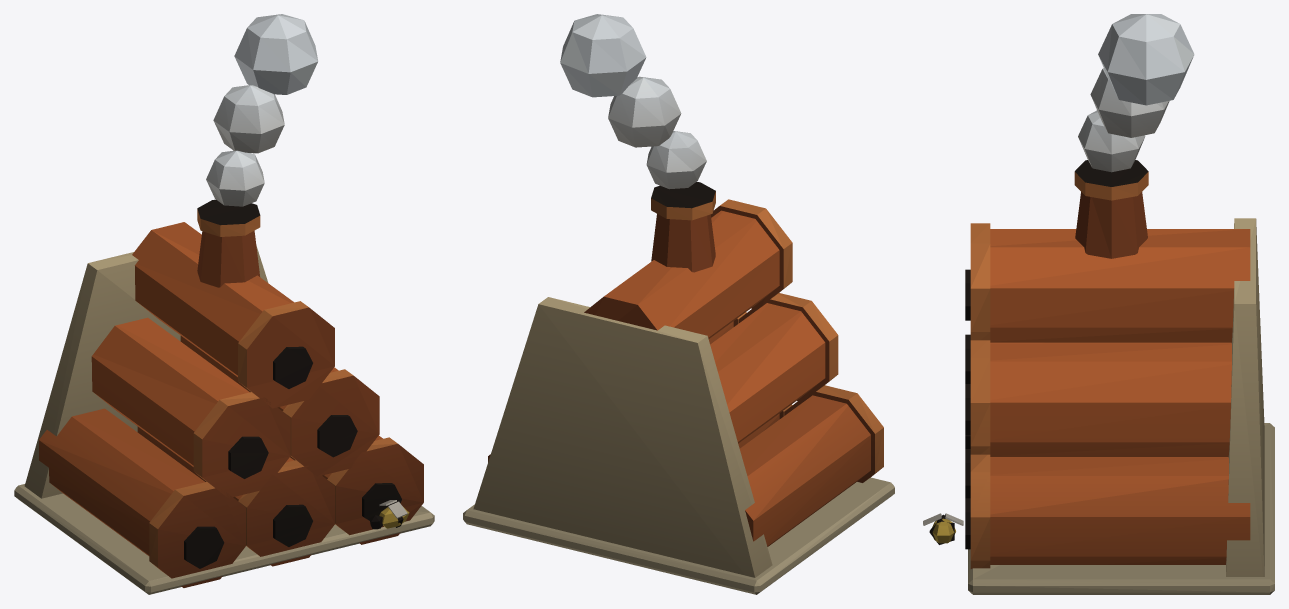
File: drowsy_clay_hive.glb
3 renders of one model, left to right at view 1: azimuth 30°, elevation 25°; view 2: azimuth 150°, elevation 25°; view 3: azimuth 270°, elevation 25°, orthographic. The views are drawn at different scales.
Visible parts, largest first — view 1: drowsy_clay_hive; view 2: drowsy_clay_hive; view 3: drowsy_clay_hive.
Part boxes in pixels (x1,y1,x2,y2): drowsy_clay_hive: [14, 14, 434, 594]; drowsy_clay_hive: [463, 14, 894, 594]; drowsy_clay_hive: [923, 14, 1274, 594].
Bounding box in the file's own units: 0.7672 × 1.2 × 0.7112.
